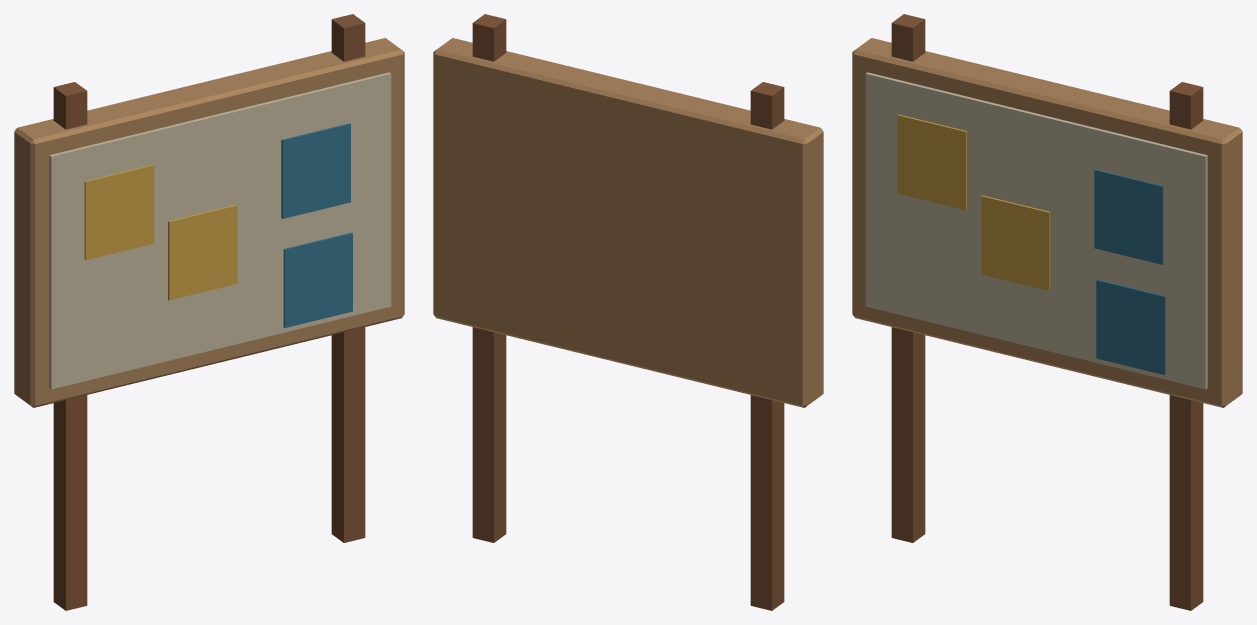
The model's file is notice_board.glb.
3 views of the same model, side by side, from view 1: azimuth 30°, elevation 25°; view 2: azimuth 150°, elevation 25°; view 3: azimuth 330°, elevation 25° (orthographic).
Visible parts, largest first — view 1: notice_board; view 2: notice_board; view 3: notice_board.
Boxes of the visible parts, <box> form: notice_board: <box>14,14,404,610</box>; notice_board: <box>433,14,823,610</box>; notice_board: <box>852,14,1242,610</box>.
Bounding box in the file's own units: 1.75 × 2.3 × 0.1865.
